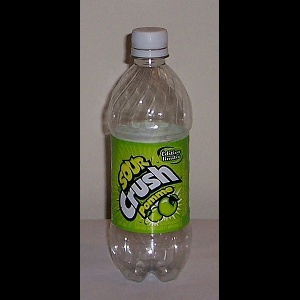emptybottle: (107, 28, 191, 281)
